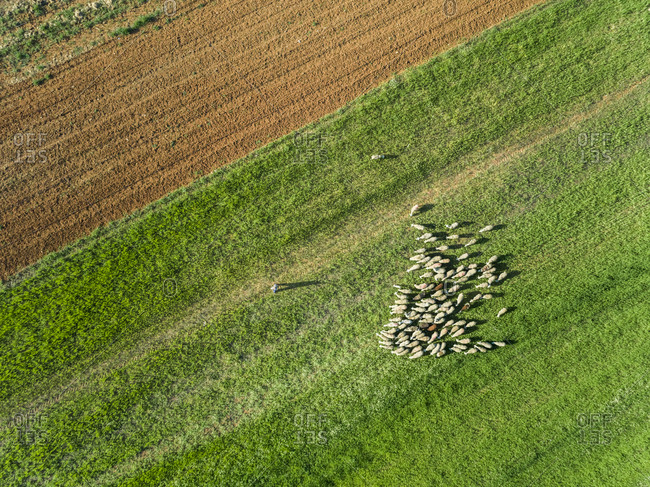sheep: (393, 333, 409, 344), (462, 267, 477, 278), (415, 231, 433, 240), (408, 349, 424, 359), (408, 253, 424, 263), (494, 270, 507, 282), (464, 237, 479, 247), (450, 327, 465, 337), (455, 291, 465, 306), (433, 311, 445, 323), (393, 298, 411, 306), (404, 311, 422, 319), (417, 255, 431, 265), (407, 263, 421, 273), (388, 303, 408, 310), (380, 330, 394, 340), (375, 332, 390, 341), (470, 291, 482, 302), (438, 327, 450, 338), (464, 346, 477, 356), (395, 348, 408, 358), (478, 225, 494, 233), (409, 204, 420, 215), (497, 306, 508, 317), (444, 304, 455, 315), (411, 223, 426, 231), (482, 266, 497, 274), (435, 348, 447, 358), (427, 331, 437, 343), (410, 344, 422, 354), (455, 338, 472, 345), (479, 263, 492, 272), (474, 344, 487, 353), (430, 289, 443, 298), (479, 293, 493, 301), (434, 293, 448, 301), (414, 281, 428, 289), (414, 301, 430, 308), (401, 325, 417, 332), (487, 253, 498, 263), (434, 272, 446, 281), (477, 340, 492, 347), (452, 319, 467, 326), (457, 252, 470, 260), (395, 288, 412, 294), (487, 274, 497, 284), (465, 320, 476, 329), (423, 236, 437, 243), (455, 276, 469, 283), (454, 343, 466, 351), (434, 258, 450, 264), (395, 294, 411, 300), (445, 221, 458, 228), (445, 233, 460, 239), (425, 343, 435, 352), (379, 340, 394, 346), (392, 346, 403, 354), (474, 281, 486, 288), (493, 340, 505, 347), (450, 347, 462, 354), (371, 154, 384, 160), (414, 247, 427, 253), (380, 344, 393, 350), (466, 263, 478, 269), (412, 306, 424, 312), (435, 245, 449, 250), (439, 340, 446, 350), (390, 310, 403, 315), (394, 284, 405, 288)
